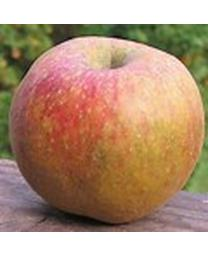apple: (8, 35, 204, 223)
